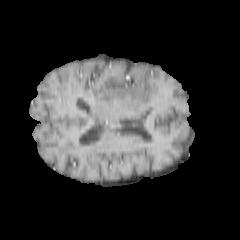glioma: (96, 72, 152, 104)
